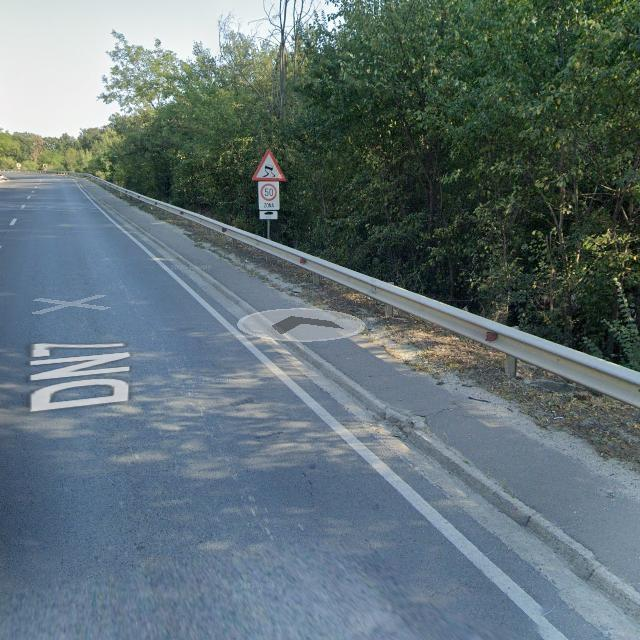forb_speed_over_50: (260, 184, 277, 202)
